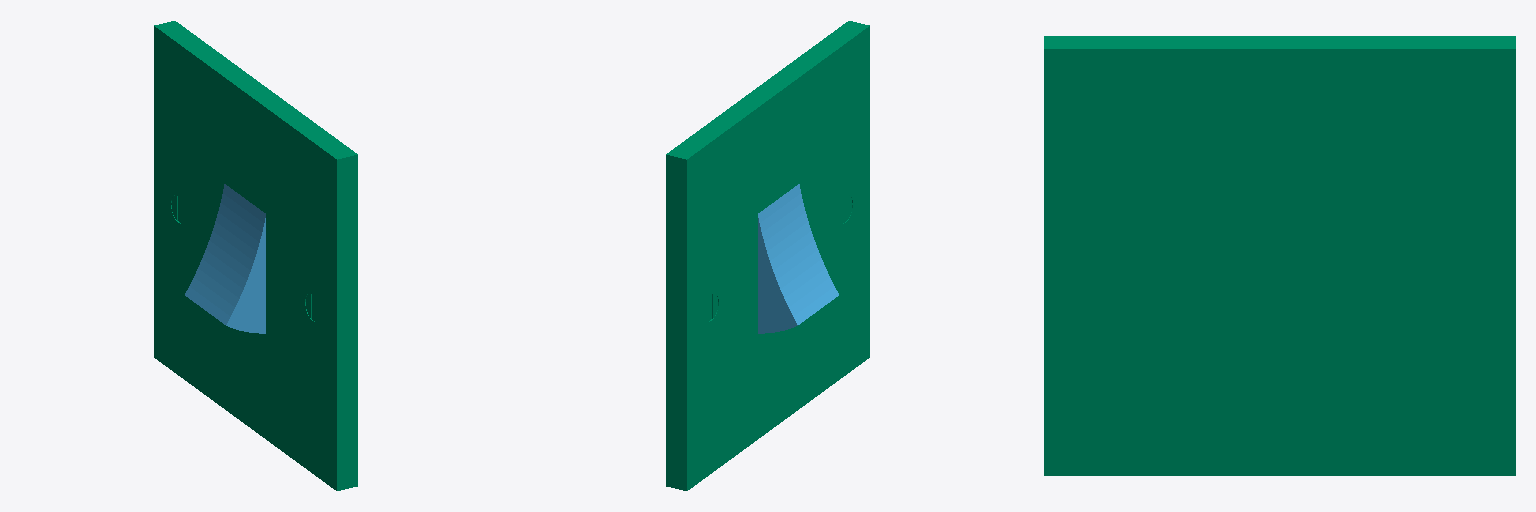
robot.urdf — partnet_2cae3b4ef3d4a9532ad490d4d7fae486:
<robot name="partnet_2cae3b4ef3d4a9532ad490d4d7fae486">
	<link name="base"><inertial><mass value="10" /><inertia ixx="1" ixy="0" ixz="0" iyy="1" iyz="0" izz="1" /></inertial></link>
	<link name="link_0">
		<visual name="switch-1">
			<origin xyz="0 -0.011644000000000015 -0.04" />
			<geometry>
				<mesh filename="textured_objs/original-3.obj" />
			</geometry>
		</visual>
		<collision>
			<origin xyz="0 -0.011644000000000015 -0.04" />
			<geometry>
				<mesh filename="textured_objs/original-3.obj" />
			</geometry>
		</collision>
	<inertial><mass value="10" /><inertia ixx="1" ixy="0" ixz="0" iyy="1" iyz="0" izz="1" /></inertial></link>
	<joint name="joint_0" type="revolute">
		<origin xyz="0 0.011644000000000015 0.04" />
		<axis xyz="1 0 0" />
		<child link="link_0" />
		<parent link="link_1" />
		<limit effort="30" lower="0.0" upper="0.7504915783575616" velocity="1.0" />
	</joint>
	<link name="link_1">
		<visual name="base_body-2">
			<origin xyz="0 0 0" />
			<geometry>
				<mesh filename="textured_objs/original-4.obj" />
			</geometry>
		</visual>
		<visual name="base_body-2">
			<origin xyz="0 0 0" />
			<geometry>
				<mesh filename="textured_objs/original-2.obj" />
			</geometry>
		</visual>
		<visual name="base_body-2">
			<origin xyz="0 0 0" />
			<geometry>
				<mesh filename="textured_objs/original-8.obj" />
			</geometry>
		</visual>
		<visual name="base_body-2">
			<origin xyz="0 0 0" />
			<geometry>
				<mesh filename="textured_objs/original-5.obj" />
			</geometry>
		</visual>
		<visual name="base_body-2">
			<origin xyz="0 0 0" />
			<geometry>
				<mesh filename="textured_objs/original-6.obj" />
			</geometry>
		</visual>
		<visual name="base_body-2">
			<origin xyz="0 0 0" />
			<geometry>
				<mesh filename="textured_objs/original-7.obj" />
			</geometry>
		</visual>
		<visual name="base_body-2">
			<origin xyz="0 0 0" />
			<geometry>
				<mesh filename="textured_objs/original-1.obj" />
			</geometry>
		</visual>
		<collision>
			<origin xyz="0 0 0" />
			<geometry>
				<mesh filename="textured_objs/original-4.obj" />
			</geometry>
		</collision>
		<collision>
			<origin xyz="0 0 0" />
			<geometry>
				<mesh filename="textured_objs/original-2.obj" />
			</geometry>
		</collision>
		<collision>
			<origin xyz="0 0 0" />
			<geometry>
				<mesh filename="textured_objs/original-8.obj" />
			</geometry>
		</collision>
		<collision>
			<origin xyz="0 0 0" />
			<geometry>
				<mesh filename="textured_objs/original-5.obj" />
			</geometry>
		</collision>
		<collision>
			<origin xyz="0 0 0" />
			<geometry>
				<mesh filename="textured_objs/original-6.obj" />
			</geometry>
		</collision>
		<collision>
			<origin xyz="0 0 0" />
			<geometry>
				<mesh filename="textured_objs/original-7.obj" />
			</geometry>
		</collision>
		<collision>
			<origin xyz="0 0 0" />
			<geometry>
				<mesh filename="textured_objs/original-1.obj" />
			</geometry>
		</collision>
	<inertial><mass value="10" /><inertia ixx="1" ixy="0" ixz="0" iyy="1" iyz="0" izz="1" /></inertial></link>
	<joint name="joint_1" type="fixed">
		<origin rpy="1.570796326794897 0 -1.570796326794897" xyz="0 0 0" />
		<child link="link_1" />
		<parent link="base" />
	</joint>
</robot>

--- What the picture shows (computed from the rendered views, not written in the file) ---
Views: 3 orthographic renders of the robot side by side, from view 1: azimuth 30°, elevation 25°; view 2: azimuth 150°, elevation 25°; view 3: azimuth 270°, elevation 25°.
Model partnet_2cae3b4ef3d4a9532ad490d4d7fae486 with 3 links and 2 joints (1 revolute, 1 fixed), rooted at base, posed all joints at 0.
Visible links, largest first — view 1: link_1, link_0; view 2: link_1, link_0; view 3: link_1.
Boxes of the visible links, <box> form: link_1: <box>154,21,357,490</box>; link_0: <box>185,184,265,333</box>; link_1: <box>666,21,869,490</box>; link_0: <box>758,184,838,333</box>; link_1: <box>1044,36,1515,475</box>.
Bounding box of the posed robot: 0.2776 × 1.44 × 1.44 m (x, y, z).
8 mesh visuals loaded from 8 distinct referenced files (8 OBJ).